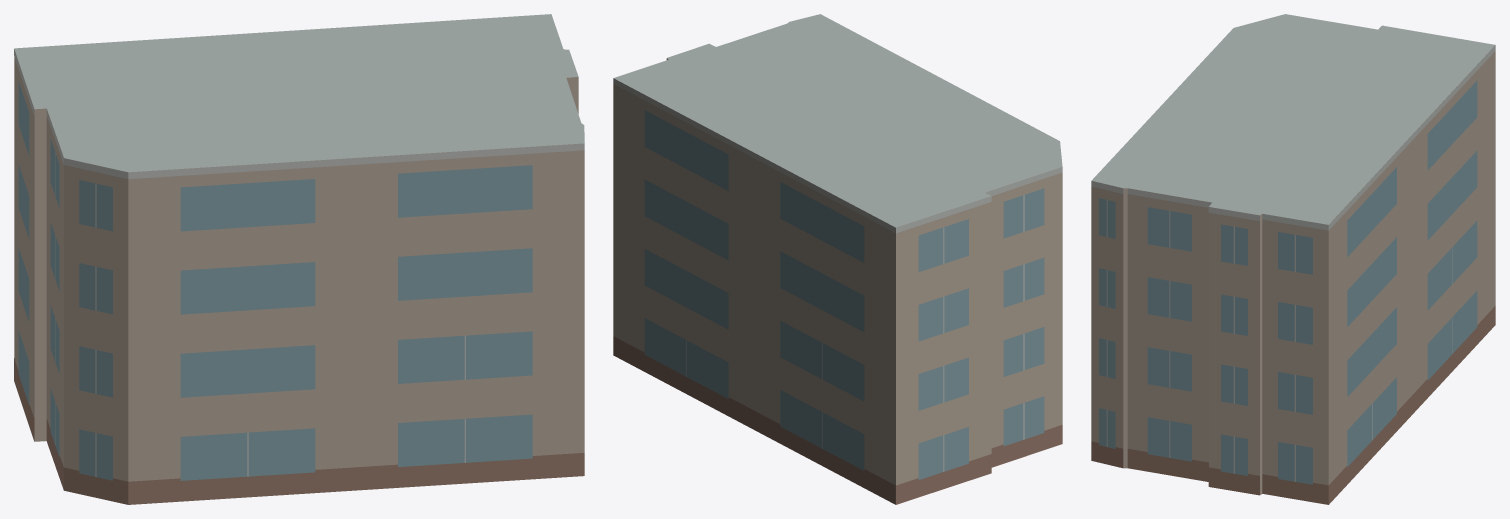
Rendered from survey-upis-33003361.glb.
The picture shows the model from 3 angles, left to right: view 1: azimuth 30°, elevation 25°; view 2: azimuth 150°, elevation 25°; view 3: azimuth 270°, elevation 25°; orthographic projection. The views are drawn at different scales.
Visible parts, largest first — view 1: survey-upis-33003361.tmp; view 2: survey-upis-33003361.tmp; view 3: survey-upis-33003361.tmp.
Boxes of the visible parts, <box> form: survey-upis-33003361.tmp: <box>14,14,584,504</box>; survey-upis-33003361.tmp: <box>613,14,1062,504</box>; survey-upis-33003361.tmp: <box>1091,14,1495,504</box>.
Size of the model in its own units: 19.07 by 11.8 by 15.45.
